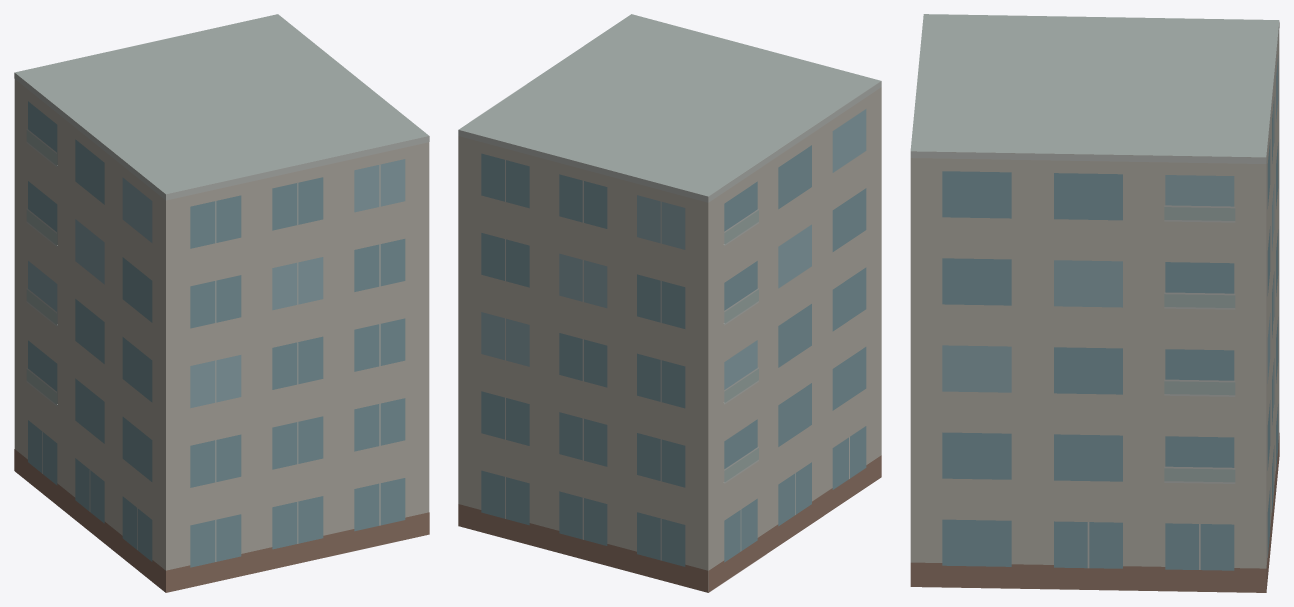
File: survey-upis-32915590.glb
3 renders of one model, left to right at view 1: azimuth 30°, elevation 25°; view 2: azimuth 150°, elevation 25°; view 3: azimuth 270°, elevation 25°, orthographic. The views are drawn at different scales.
Parts seen in each view (by area): view 1: survey-upis-32915590.tmp; view 2: survey-upis-32915590.tmp; view 3: survey-upis-32915590.tmp.
Part boxes in pixels (box(x1,y1,x2,y2)): survey-upis-32915590.tmp: box(14, 14, 429, 592); survey-upis-32915590.tmp: box(458, 14, 881, 592); survey-upis-32915590.tmp: box(910, 14, 1279, 592).
Size of the model in its own units: 11.09 by 15.7 by 12.07.
